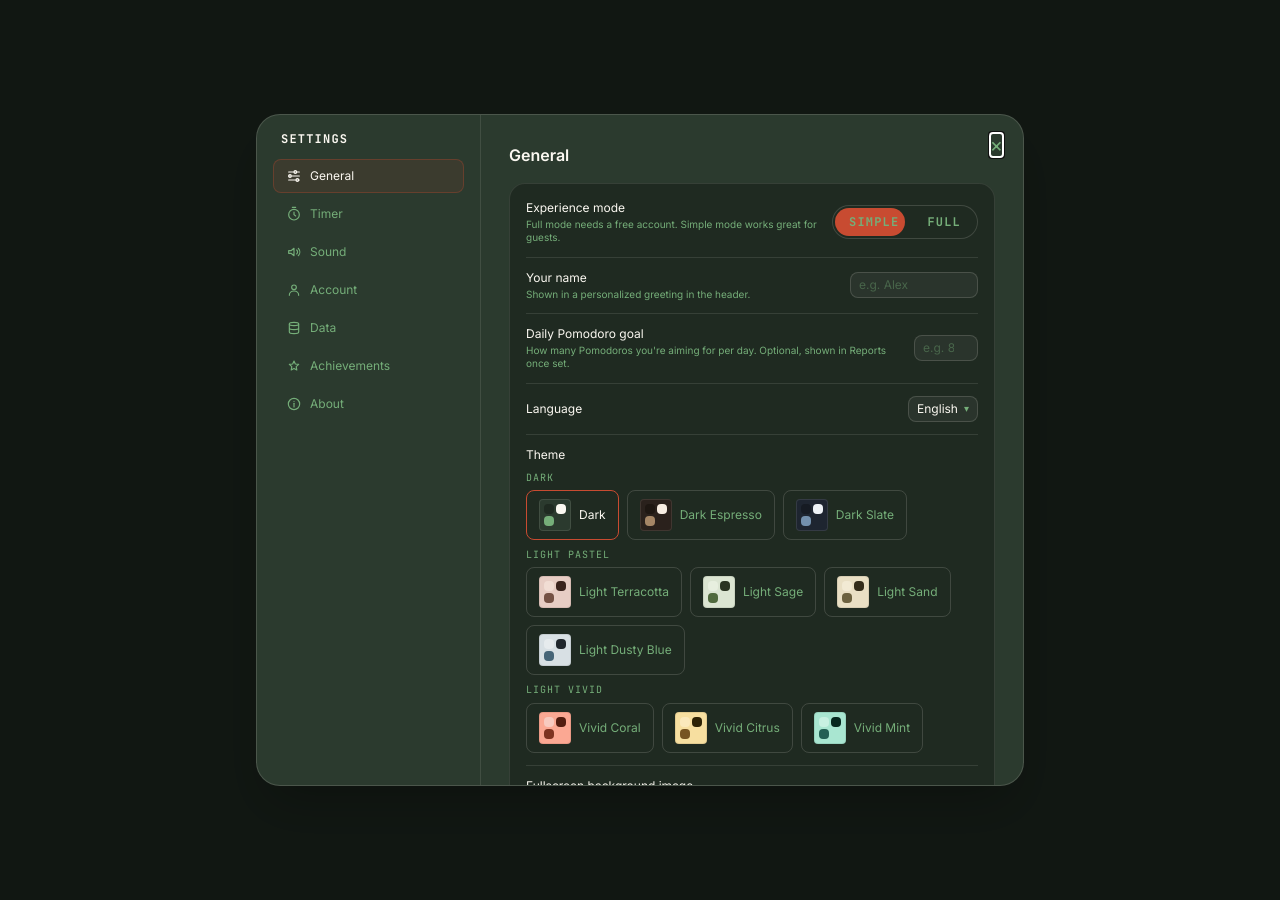
Test: SettingsModal Account category › hides Change Password for a Google-only account
The width and height of the screenshot is (1280, 900).
Click the button "Account" at (368, 290), box [273,273,464,307]
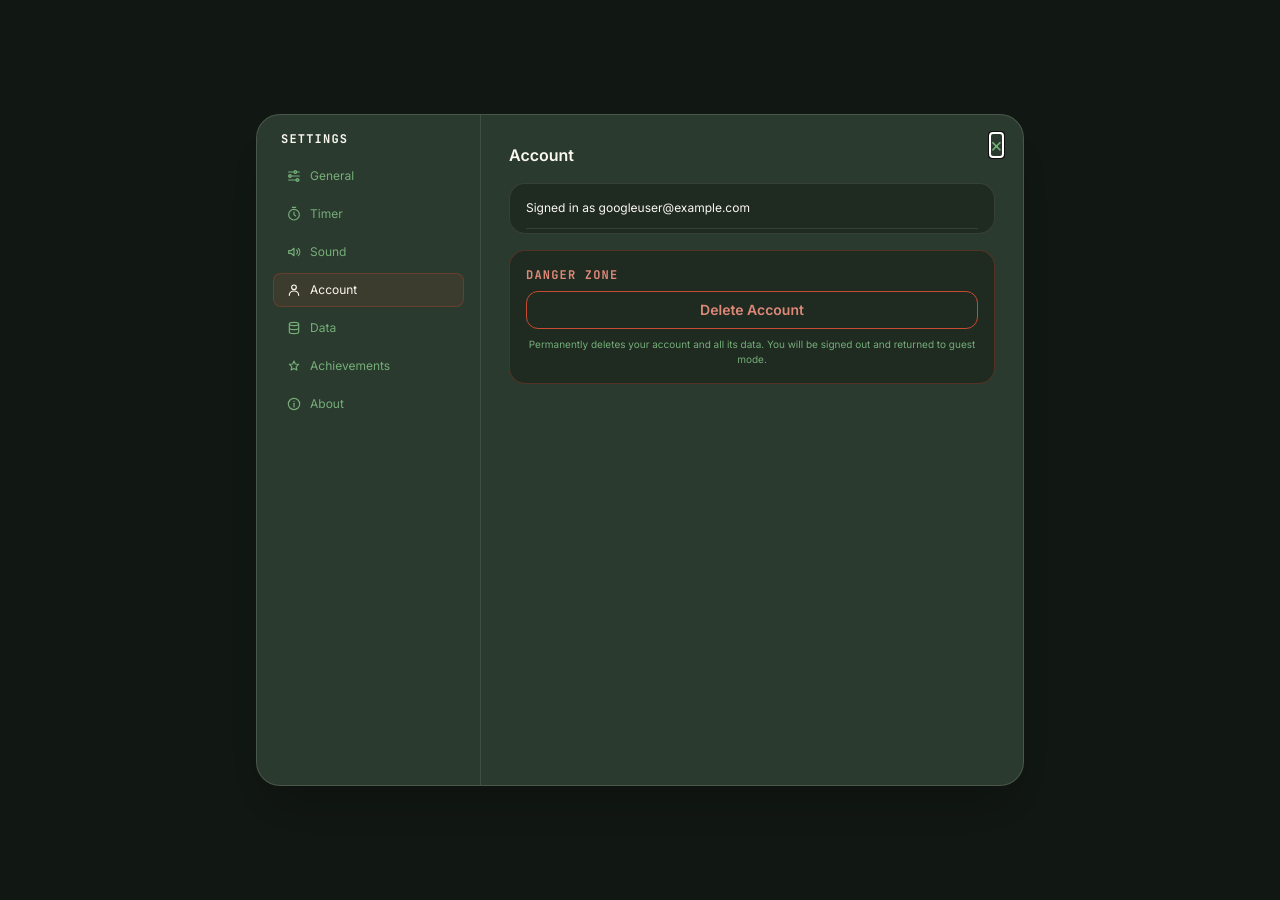
Now the text "Signed in as googleuser@example.com" is shown, box [526,188,978,229]
Now the button "Delete Account" is shown, box [526,291,978,329]
